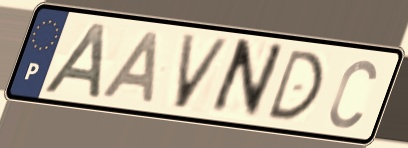A: (39, 20, 109, 103), (97, 29, 162, 106)
C: (326, 56, 379, 132)
D: (263, 48, 326, 123)
N: (204, 36, 289, 122)
V: (171, 31, 234, 112)
